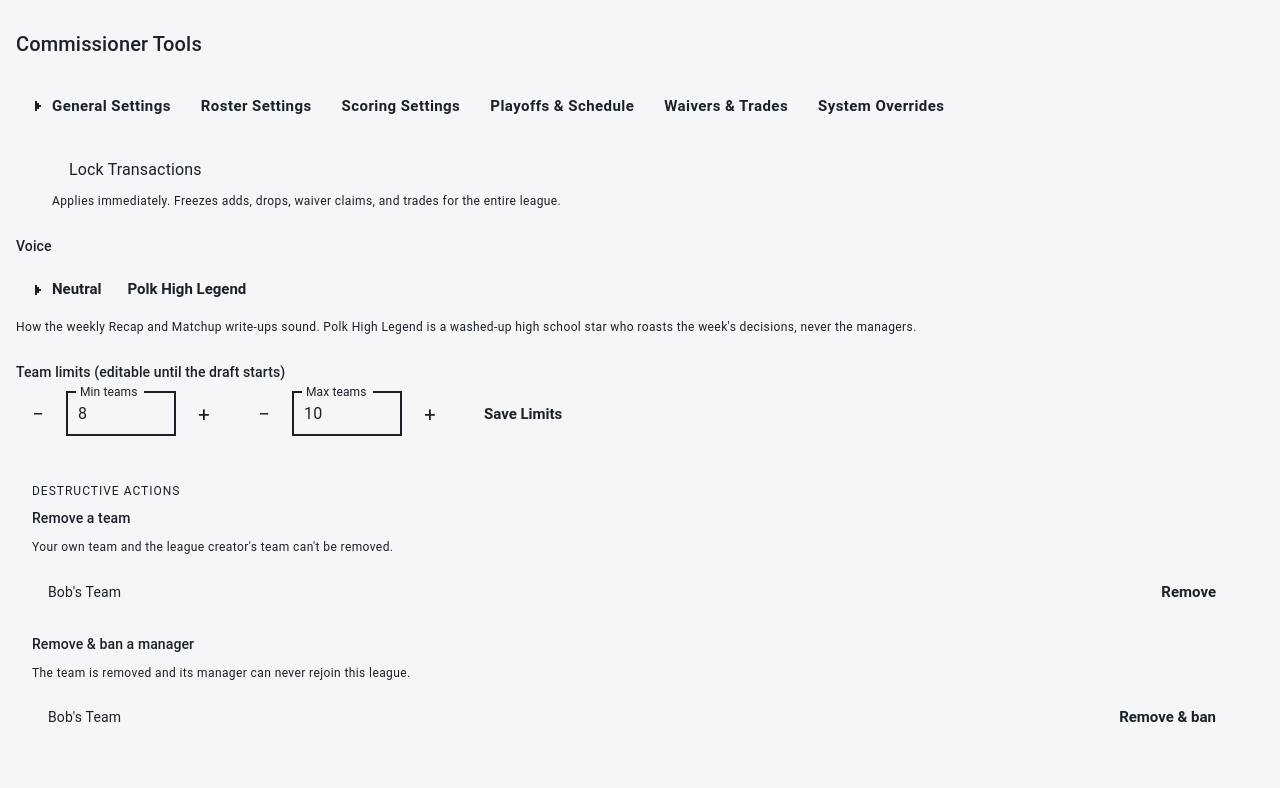
Test: a league's existing custom scoring_rules seed the editor over the defaults
Click the tab "Scoring Settings". click: x=401, y=106
box: [326,84,476,128]
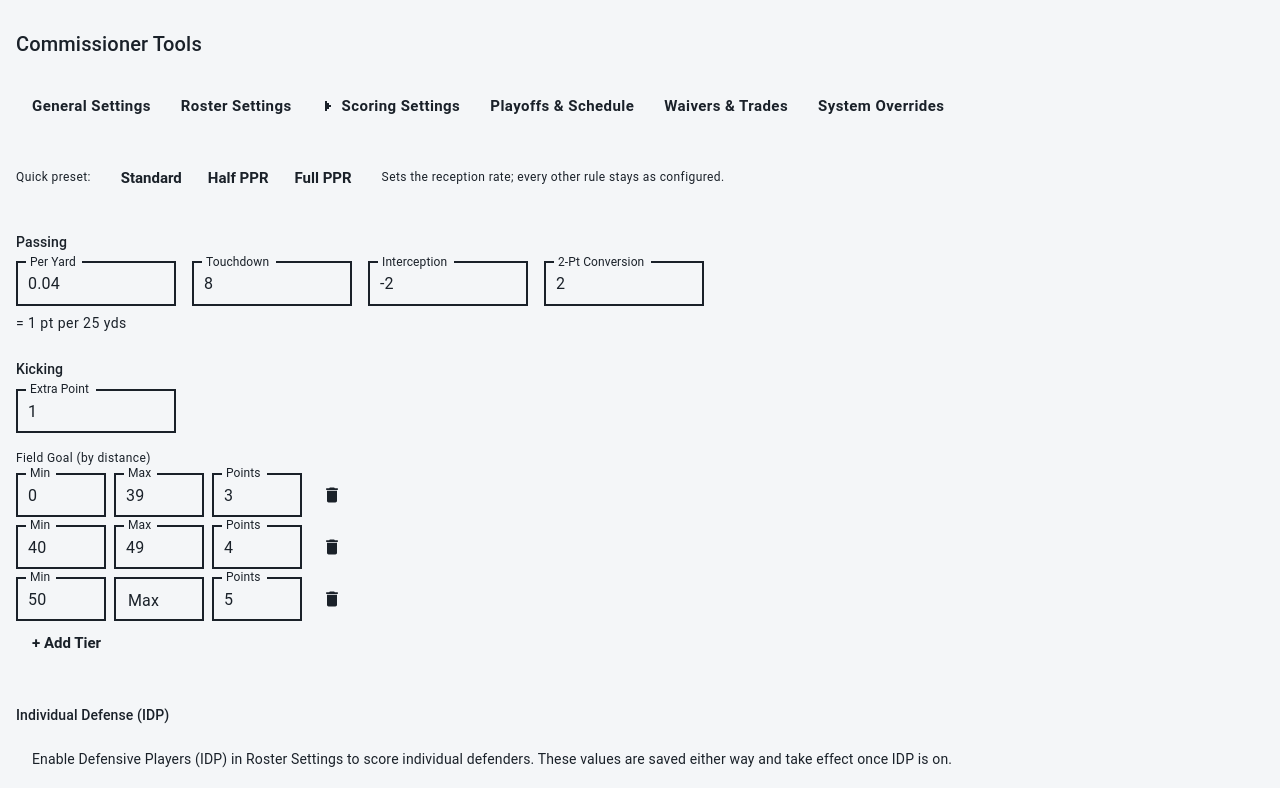
Result: the number field labelled "Touchdown" holds "8" at [192,262,352,306]
Result: the number field labelled "Per Yard" holds "0.04" at [16,262,176,306]
